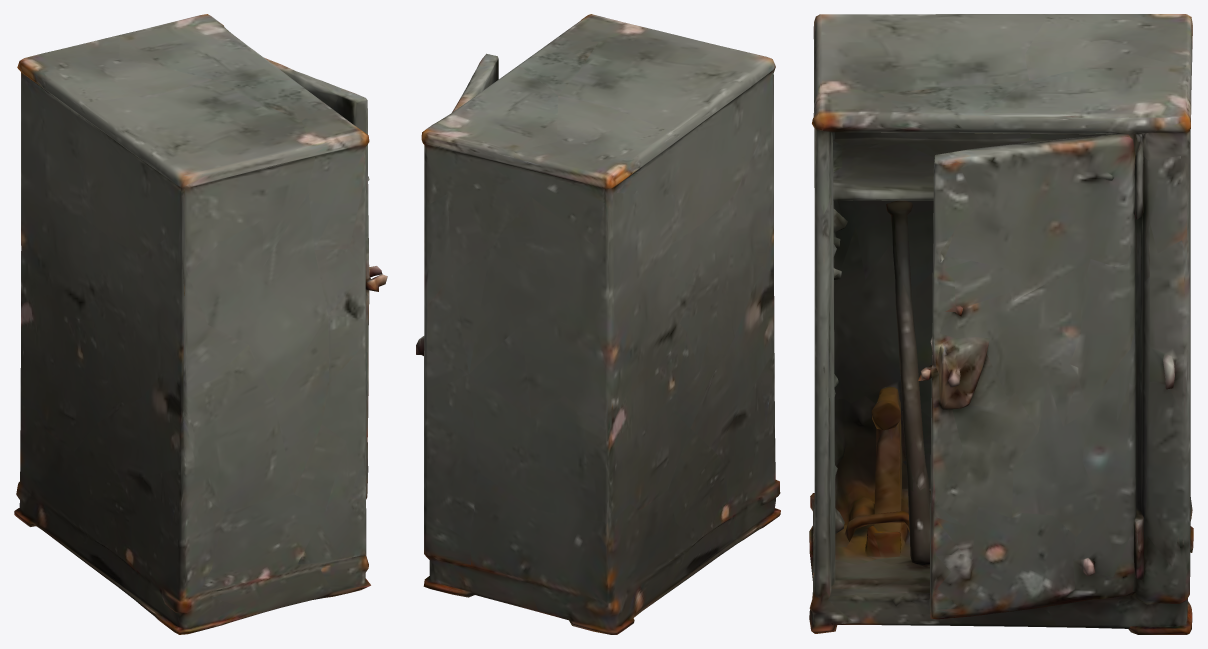
The model's file is st_tools.glb.
3 views of the same model, side by side, from view 1: azimuth 30°, elevation 25°; view 2: azimuth 150°, elevation 25°; view 3: azimuth 270°, elevation 25° (orthographic). The views are drawn at different scales.
Visible parts, largest first — view 1: tripo_node_bf3b414b-d7c6-4ccc-9348-6df80415f8f4; view 2: tripo_node_bf3b414b-d7c6-4ccc-9348-6df80415f8f4; view 3: tripo_node_bf3b414b-d7c6-4ccc-9348-6df80415f8f4.
Boxes of the visible parts, x1,y1,x2,y2 form: tripo_node_bf3b414b-d7c6-4ccc-9348-6df80415f8f4: [14, 14, 387, 634]; tripo_node_bf3b414b-d7c6-4ccc-9348-6df80415f8f4: [416, 14, 780, 634]; tripo_node_bf3b414b-d7c6-4ccc-9348-6df80415f8f4: [809, 14, 1193, 634].
Size of the model in its own units: 0.6086 by 0.9998 by 0.6694.
1 material, 1 textured.
